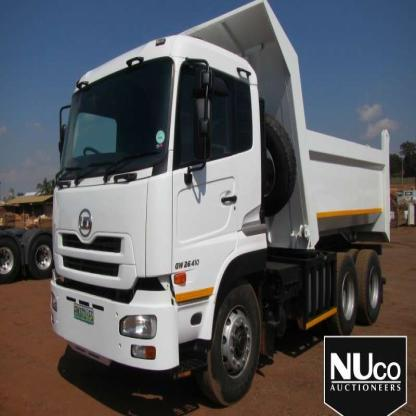dump_truck: (41, 0, 392, 364)
